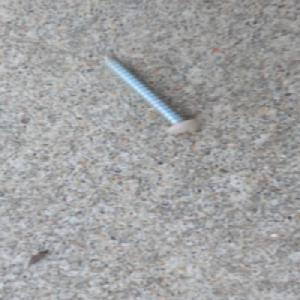Screw: (99, 52, 203, 136)
